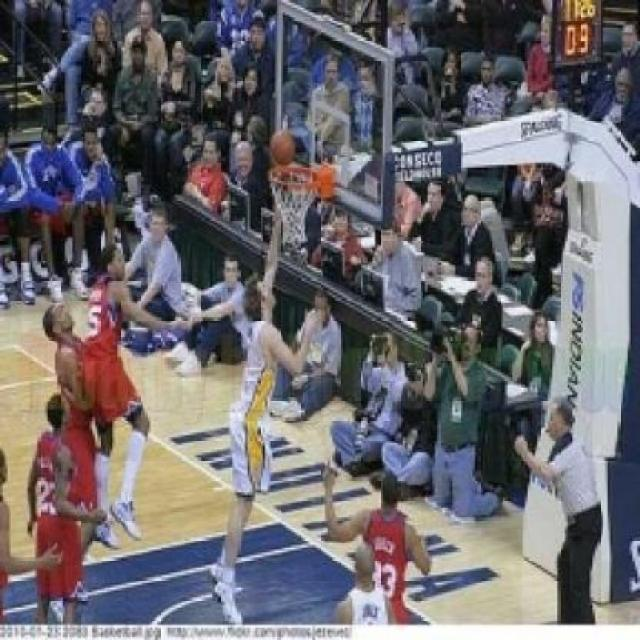basketball: (268, 128, 298, 168)
rim: (268, 167, 320, 246)
